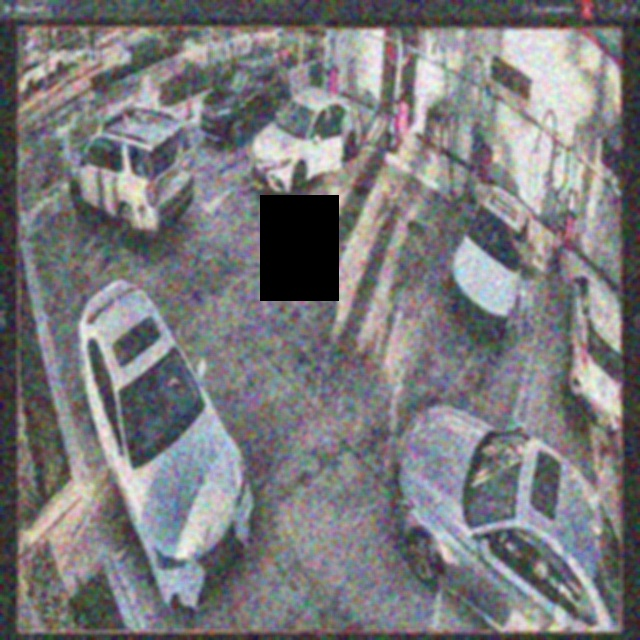Car: (78, 278, 256, 618), (393, 402, 619, 630), (67, 106, 196, 251), (449, 184, 530, 348), (249, 91, 361, 189)
